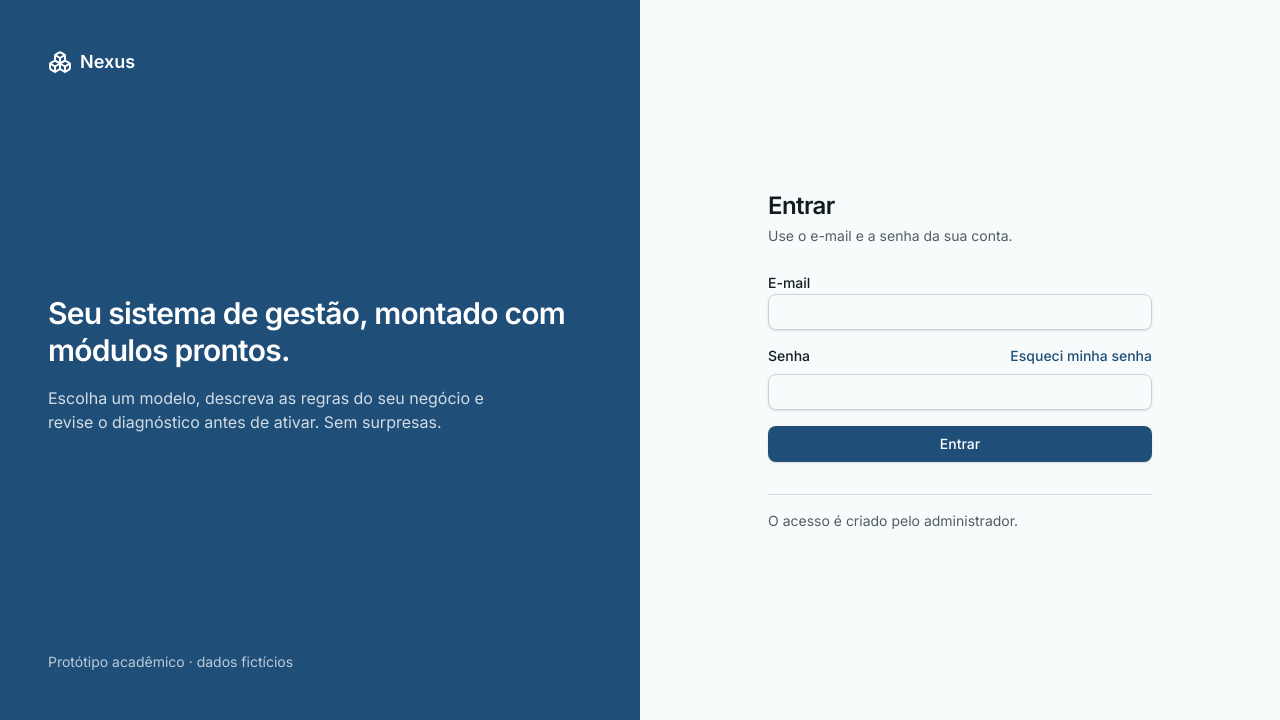
Entrar › mostra a mensagem certa para conta_desativada
The width and height of the screenshot is (1280, 720).
Type "pessoa@exemplo.com" into the field labelled "E-mail".
click(960, 312); type("pessoa@exemplo.com")  # box [768,294,1152,330]
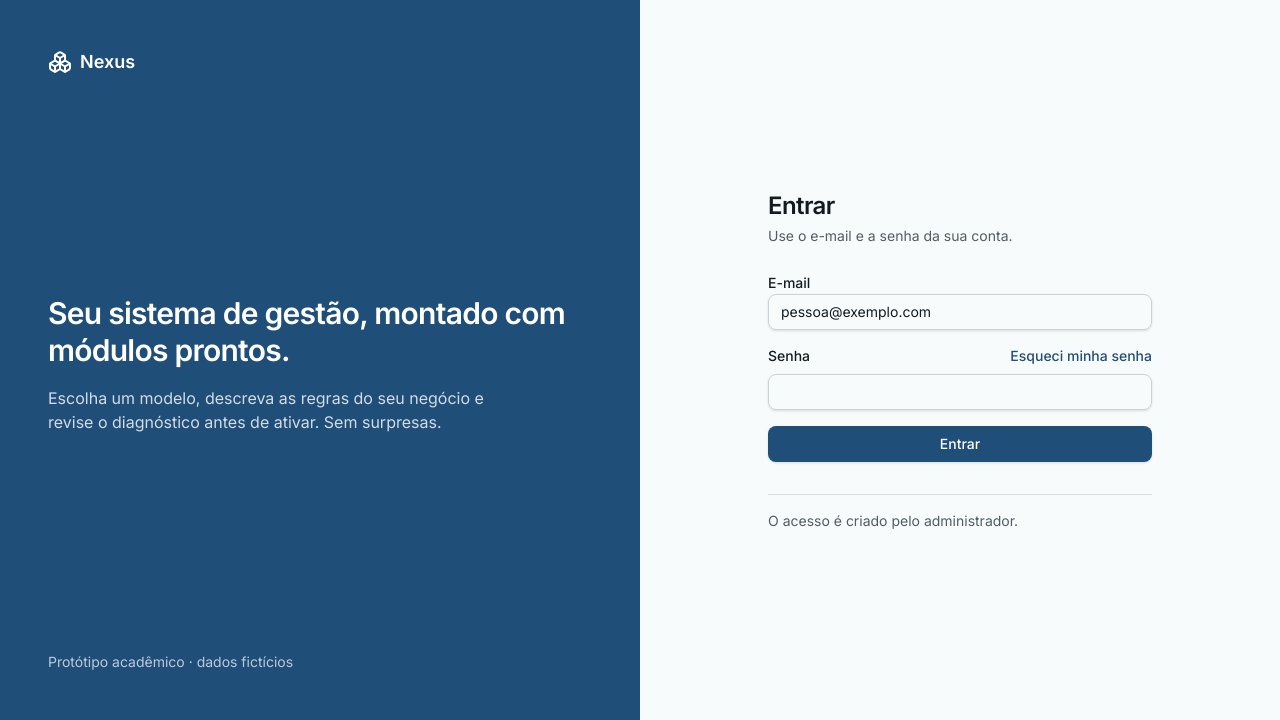
Type "senha-ficticia" into the password field labelled "Senha".
click(960, 392); type("senha-ficticia")  # box [768,374,1152,410]
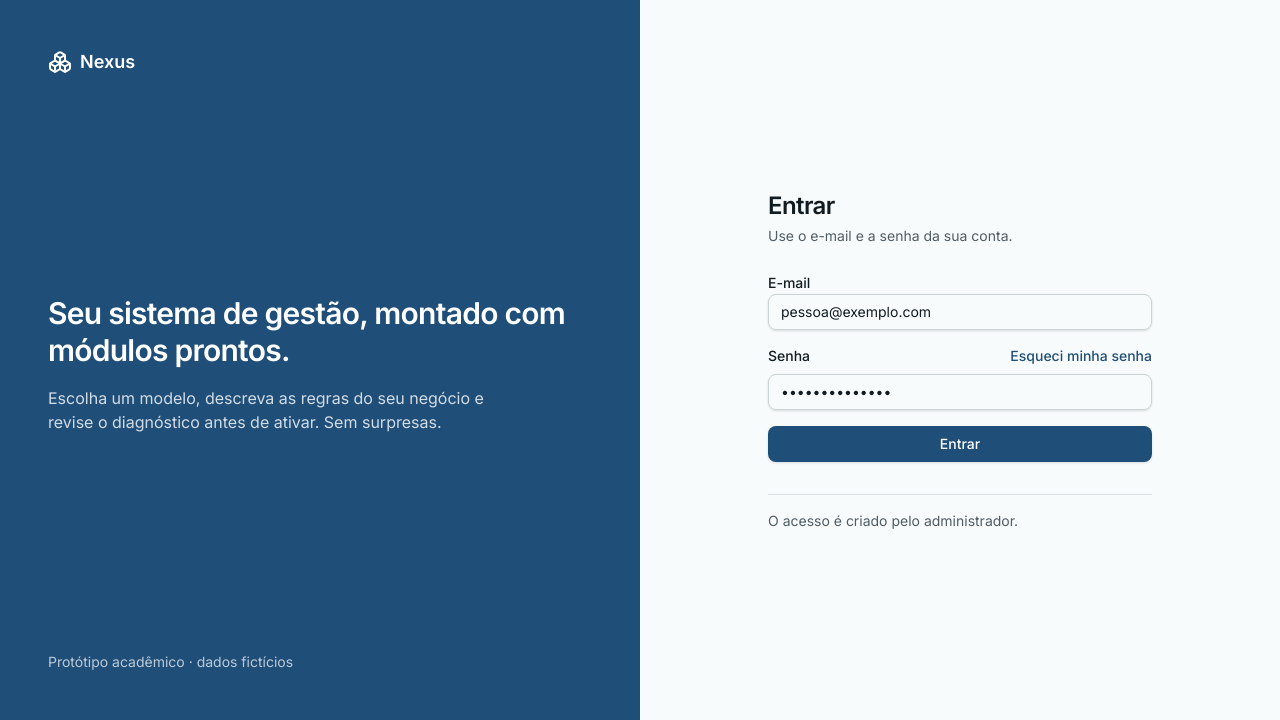
Click the button "Entrar".
click(960, 444)  # box [768,426,1152,462]
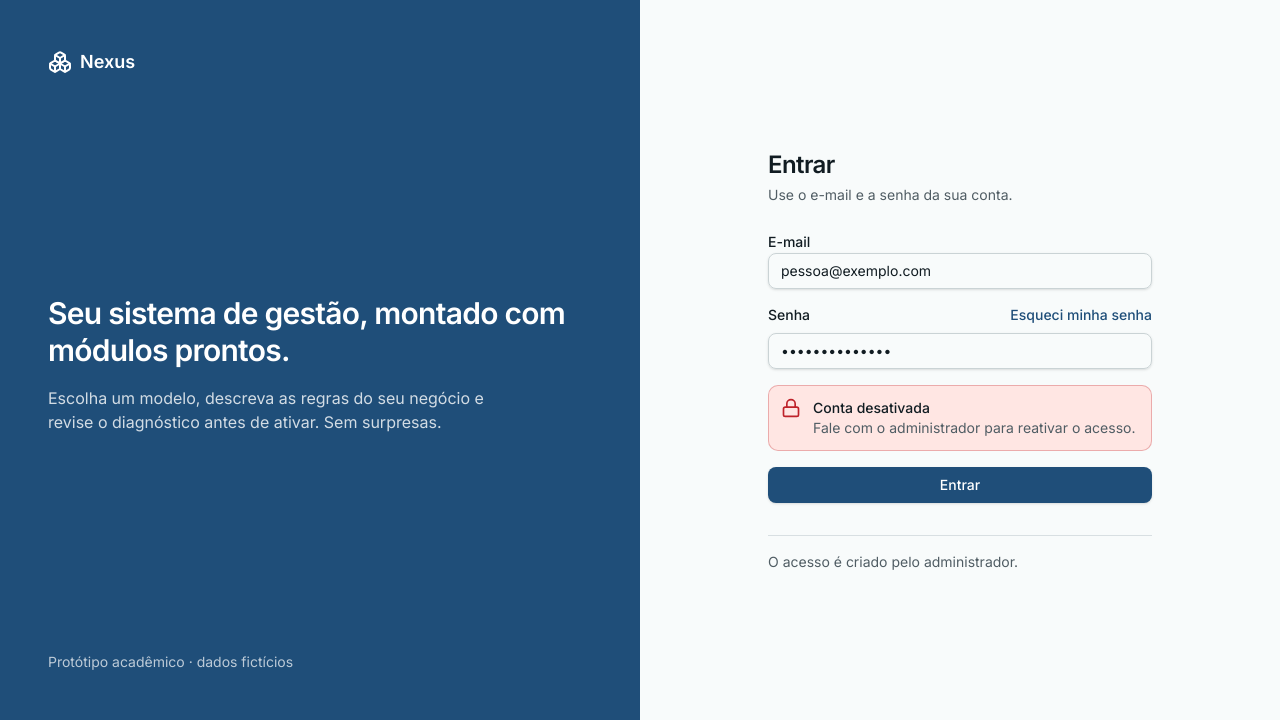
Check: the text "Conta desativada" is shown, box [813,398,930,416]
